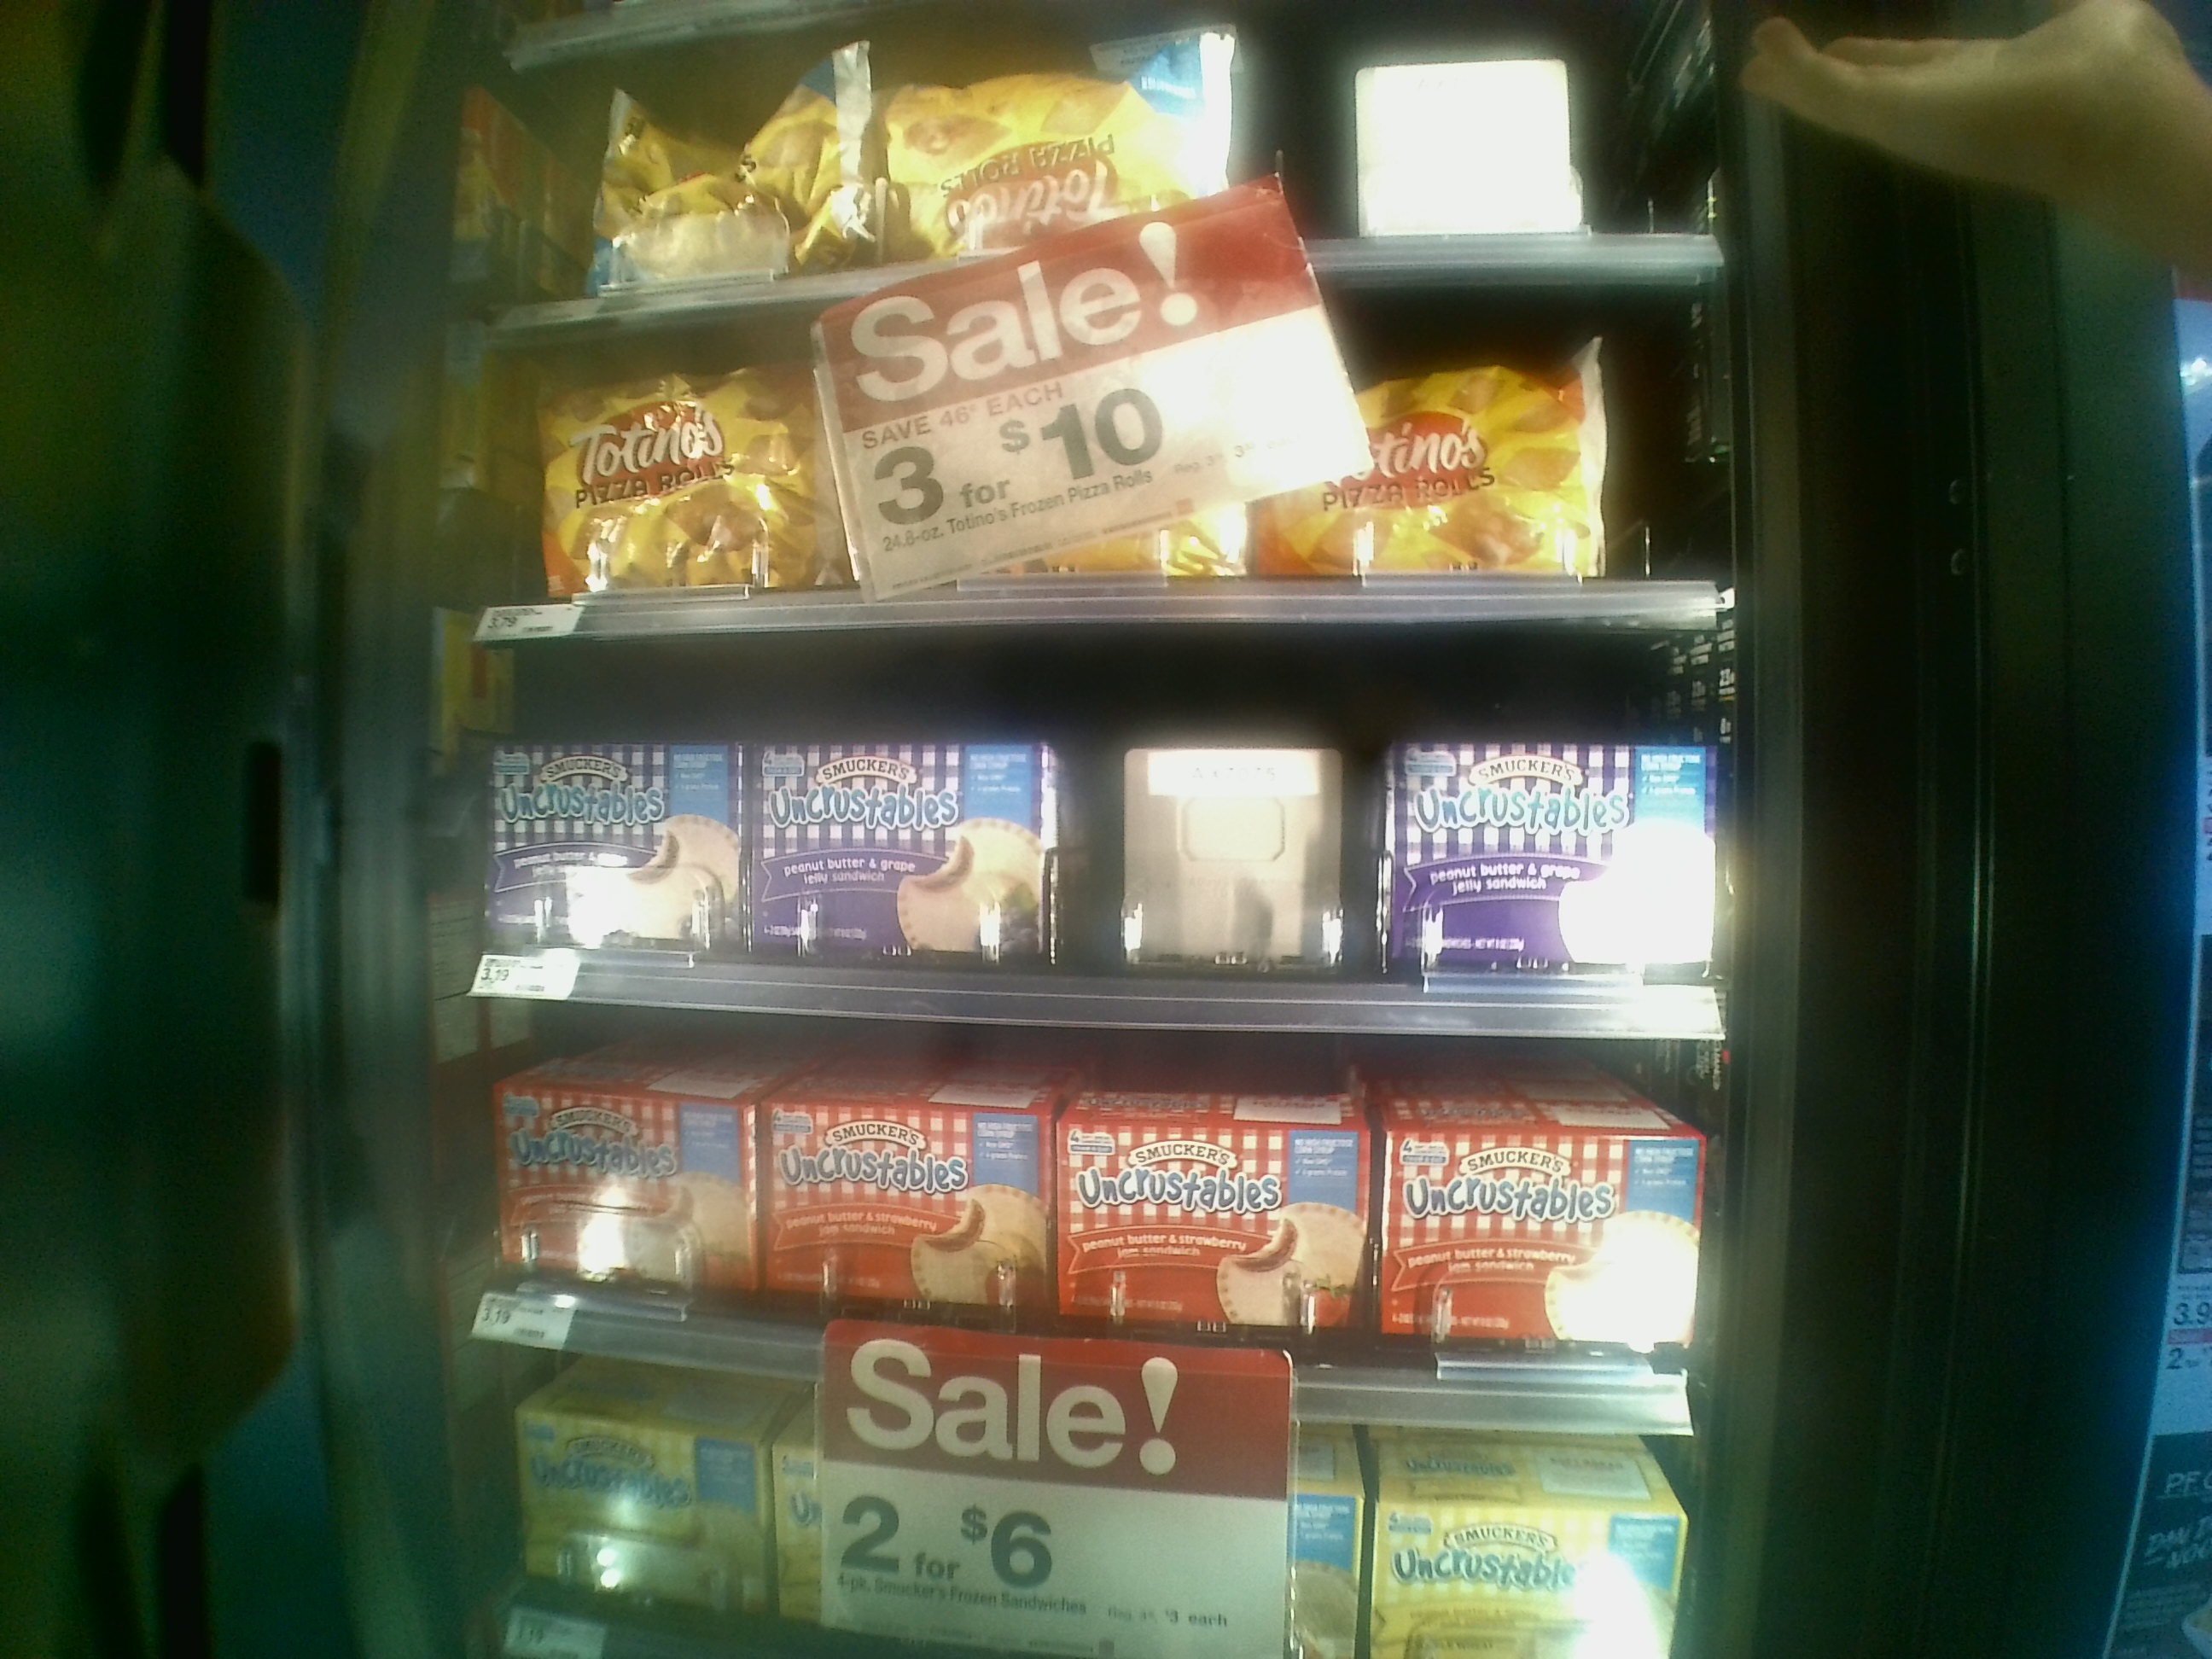shelf: (418, 992, 1707, 1432), (430, 641, 1726, 1035), (462, 300, 1719, 638)
